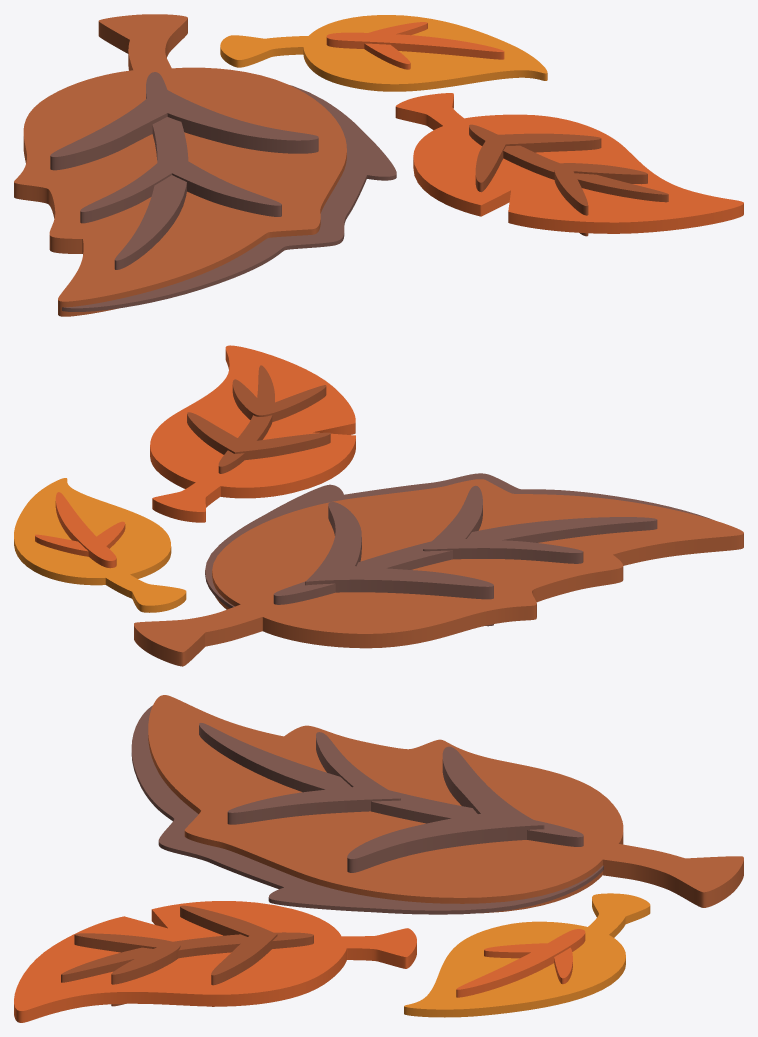
The model's file is emoji_u1f342.glb.
The picture shows the model from 3 angles, top to bottom: view 1: azimuth 30°, elevation 25°; view 2: azimuth 150°, elevation 25°; view 3: azimuth 270°, elevation 25°; orthographic projection. The views are drawn at different scales.
Parts seen in each view (by area): view 1: emoji_u1f342; view 2: emoji_u1f342; view 3: emoji_u1f342.
Part boxes in pixels (left/top/right/bottom): emoji_u1f342: left=14, top=14, right=743, bottom=316; emoji_u1f342: left=14, top=345, right=743, bottom=666; emoji_u1f342: left=14, top=695, right=743, bottom=1022.
Size of the model in its own units: 0.0341 by 0.0022 by 0.0335.
